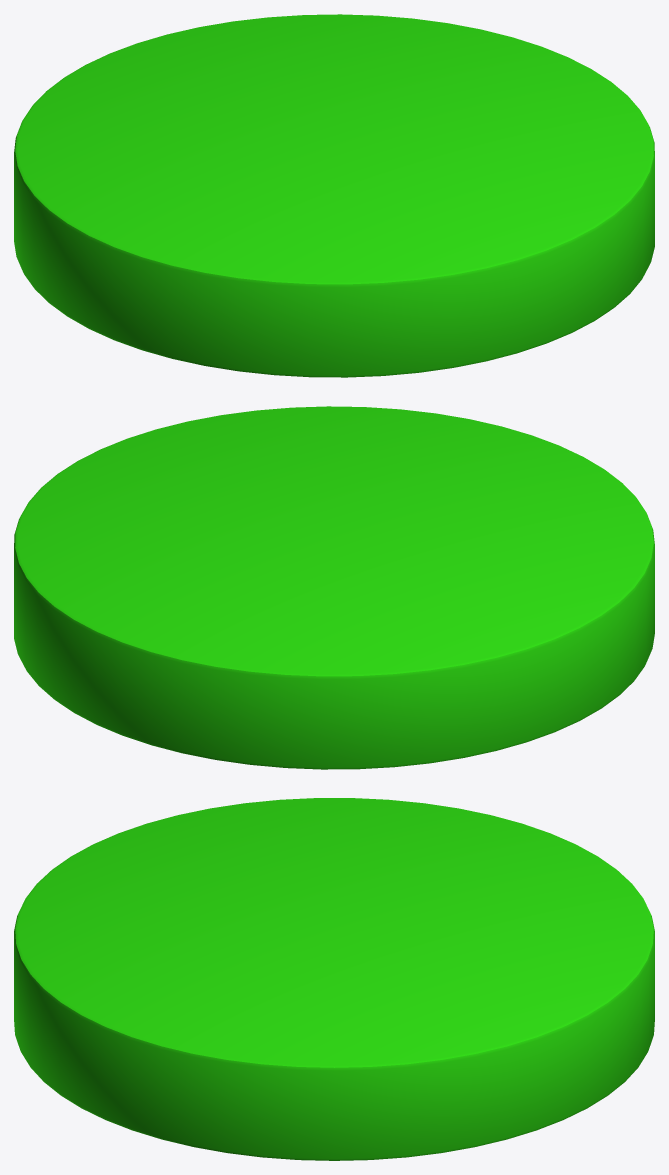
File: hockeypuck.fbx
The picture shows the model from 3 angles, top to bottom: view 1: azimuth 30°, elevation 25°; view 2: azimuth 150°, elevation 25°; view 3: azimuth 270°, elevation 25°; orthographic projection.
Visible parts, largest first — view 1: Puck; view 2: Puck; view 3: Puck.
Boxes of the visible parts, left/top/right/bottom form: Puck: left=14, top=14, right=654, bottom=377; Puck: left=14, top=406, right=654, bottom=769; Puck: left=14, top=798, right=654, bottom=1160.
Size of the model in its own units: 43.12 by 7.07 by 43.14.
